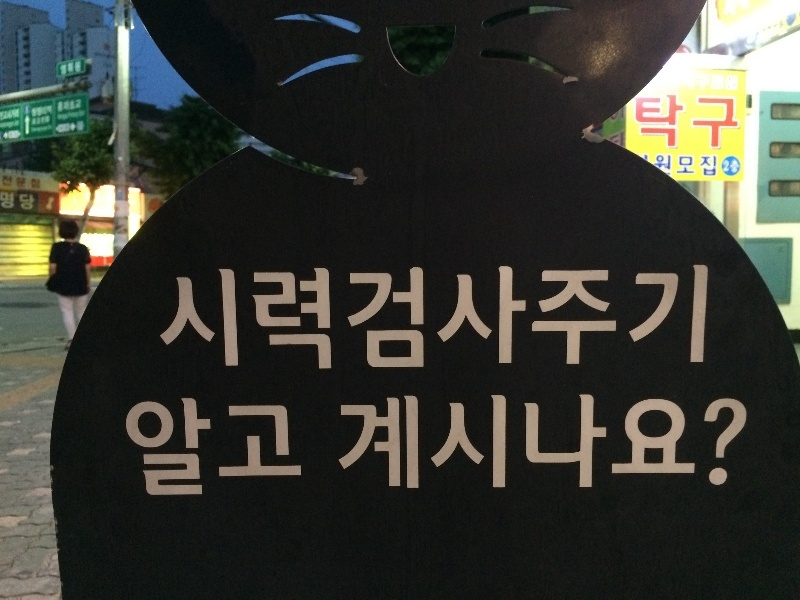text: (177, 262, 192, 375), (193, 262, 208, 375), (209, 262, 224, 375), (225, 262, 240, 375), (241, 262, 256, 375), (257, 262, 272, 375), (273, 262, 288, 375), (289, 262, 304, 375), (305, 262, 320, 375), (321, 262, 336, 375), (337, 262, 352, 375), (353, 262, 368, 375), (369, 262, 384, 375), (385, 262, 400, 375), (401, 262, 416, 375), (417, 262, 432, 375), (433, 262, 448, 375), (449, 262, 464, 375), (465, 262, 480, 375), (481, 262, 496, 375), (497, 262, 512, 375), (513, 262, 528, 375), (529, 262, 544, 375), (545, 262, 560, 375), (561, 262, 576, 375), (577, 262, 592, 375), (593, 262, 608, 375), (609, 262, 624, 375), (625, 262, 640, 375), (641, 262, 656, 375), (657, 262, 672, 375), (673, 262, 688, 375), (689, 262, 704, 375), (737, 390, 753, 492), (129, 399, 144, 501), (145, 399, 160, 501), (161, 399, 176, 501), (177, 399, 192, 501), (193, 399, 208, 501), (209, 399, 224, 501), (225, 399, 240, 501), (241, 399, 256, 501), (257, 399, 272, 501), (273, 399, 288, 501), (289, 399, 304, 501), (353, 390, 368, 492), (369, 390, 384, 492), (385, 390, 400, 492), (401, 390, 416, 492), (417, 390, 432, 492), (433, 390, 448, 492), (449, 390, 464, 492), (465, 390, 480, 492), (481, 390, 496, 492), (497, 390, 512, 492), (513, 390, 528, 492), (529, 390, 544, 492), (545, 390, 560, 492), (561, 390, 576, 492), (577, 390, 592, 492), (593, 390, 608, 492), (609, 390, 624, 492), (625, 390, 640, 492), (641, 390, 656, 492), (657, 390, 672, 492), (673, 390, 688, 492), (689, 390, 704, 492), (705, 390, 720, 492), (721, 390, 736, 492), (338, 390, 352, 492), (116, 399, 128, 501), (641, 94, 656, 150), (657, 94, 672, 150), (673, 94, 688, 150), (689, 94, 704, 150), (705, 94, 720, 150), (721, 94, 736, 150), (705, 262, 710, 375), (641, 154, 656, 180), (657, 154, 671, 180), (689, 156, 704, 177), (689, 73, 704, 93), (705, 73, 720, 93), (721, 73, 736, 93), (1, 191, 16, 211), (17, 191, 32, 211), (737, 1, 752, 18), (705, 156, 717, 177), (65, 61, 80, 77), (722, 1, 736, 18), (174, 262, 176, 375), (65, 120, 80, 135), (678, 156, 688, 177), (722, 160, 736, 175), (17, 175, 32, 189), (65, 99, 80, 113), (33, 105, 48, 119), (305, 399, 307, 501), (2, 175, 16, 189), (1, 109, 16, 122), (65, 110, 80, 122), (1, 119, 16, 131), (637, 94, 640, 150), (33, 115, 48, 126), (33, 123, 48, 134), (97, 51, 112, 61), (55, 120, 64, 135), (737, 94, 739, 150), (33, 175, 41, 189), (636, 154, 640, 180), (57, 99, 64, 113), (57, 110, 64, 122), (59, 61, 64, 77), (9, 130, 16, 140), (753, 1, 757, 18), (25, 106, 32, 115), (103, 62, 112, 69), (737, 160, 741, 175), (737, 73, 740, 93), (33, 191, 36, 211), (81, 110, 85, 122), (81, 120, 84, 135), (49, 123, 53, 134), (49, 105, 52, 119), (17, 109, 20, 122), (17, 119, 20, 131), (17, 130, 20, 140), (113, 51, 116, 61), (49, 115, 51, 126), (94, 51, 96, 61), (81, 61, 82, 77), (81, 99, 82, 113), (31, 105, 32, 119), (31, 115, 32, 126), (31, 123, 32, 134)
